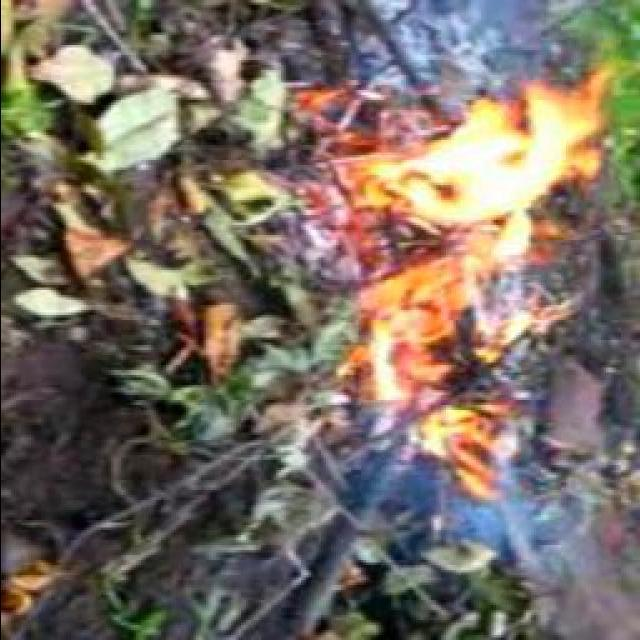Fire: (343, 74, 602, 321), (352, 215, 528, 486)
